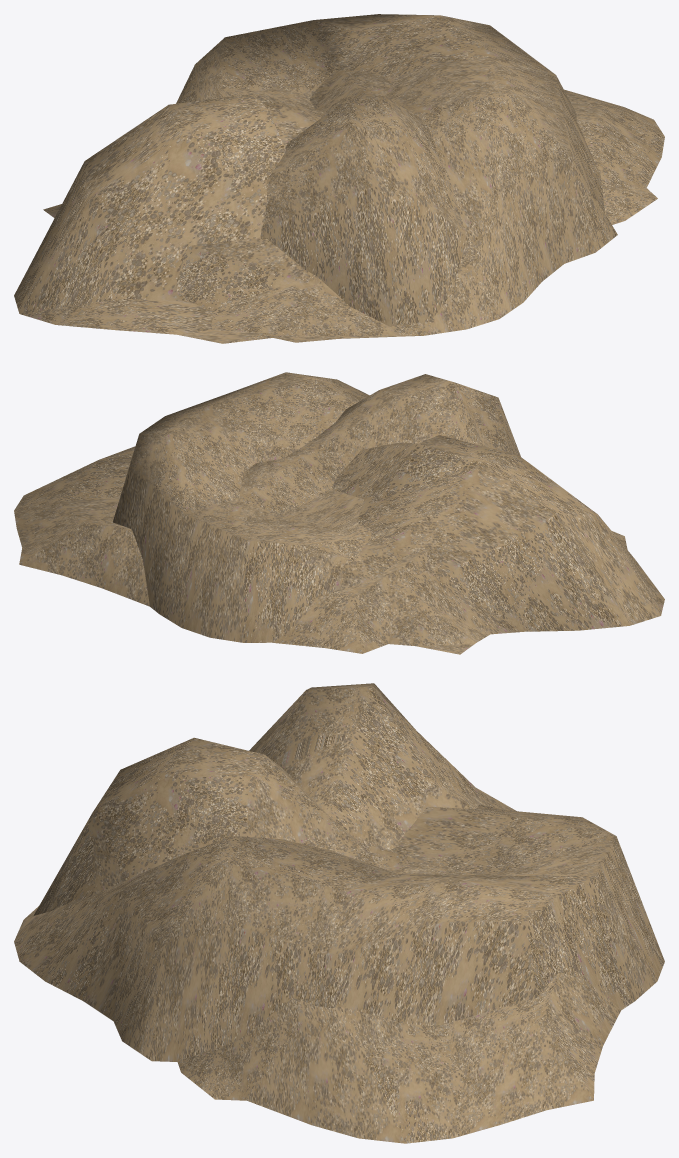
File: tuzui.fbx
The picture shows the model from 3 angles, top to bottom: view 1: azimuth 30°, elevation 25°; view 2: azimuth 150°, elevation 25°; view 3: azimuth 270°, elevation 25°; orthographic projection. The views are drawn at different scales.
Visible parts, largest first — view 1: tudui_02, tudui_01, tudui_03; view 2: tudui_01, tudui_02, tudui_03; view 3: tudui_02, tudui_01, tudui_03.
Boxes of the visible parts, <box> form: tudui_02: <box>176,14,617,342</box>; tudui_01: <box>14,89,664,343</box>; tudui_03: <box>260,70,468,326</box>; tudui_01: <box>14,435,664,654</box>; tudui_02: <box>113,372,371,642</box>; tudui_03: <box>239,374,520,653</box>; tudui_02: <box>14,804,664,1061</box>; tudui_01: <box>177,683,620,1143</box>; tudui_03: <box>33,737,516,915</box>.
Bounding box in the file's own units: 842 × 187 × 604.
